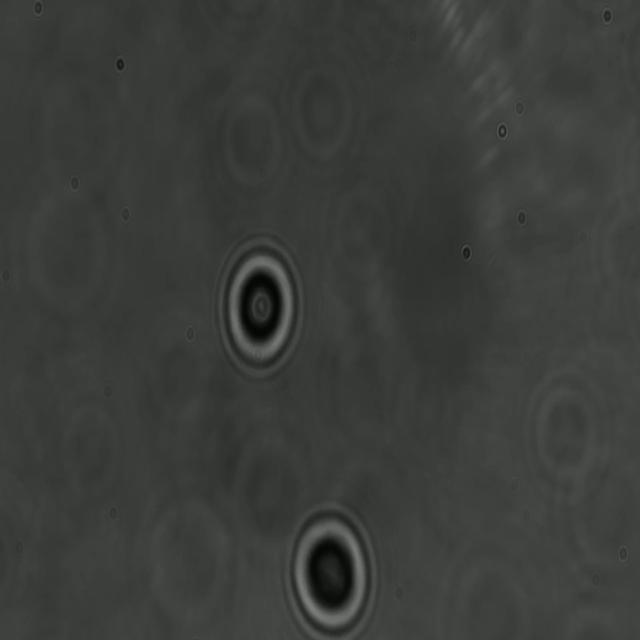LCELL: (215, 231, 306, 382)
